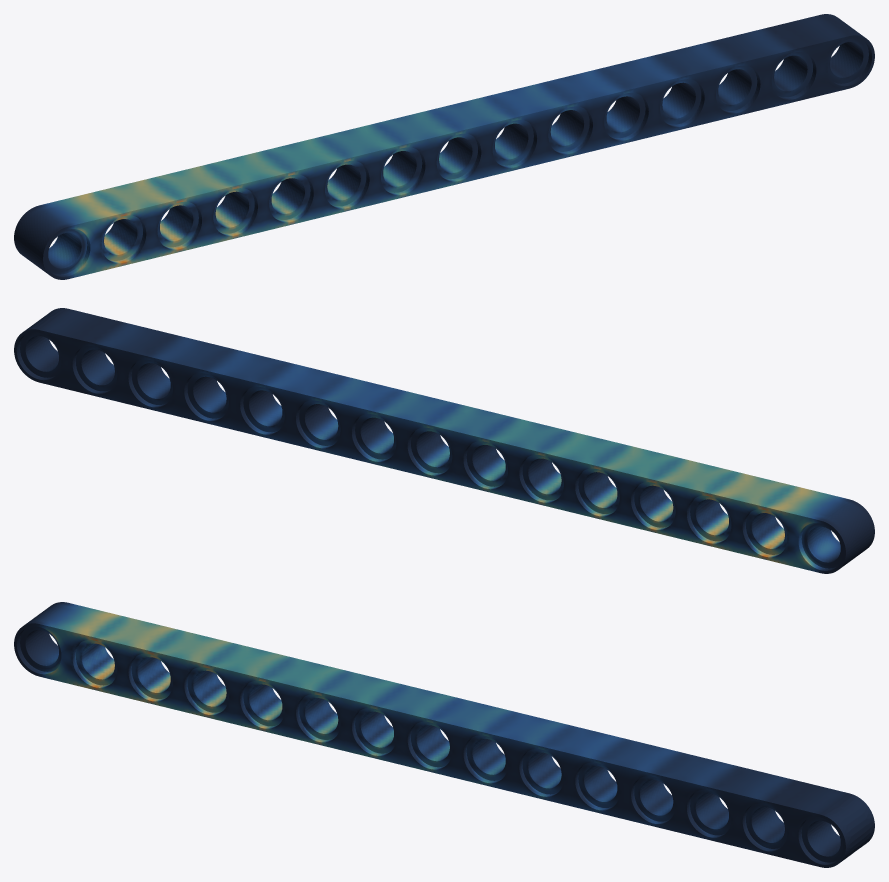
File: beam15.glb
The picture shows the model from 3 angles, top to bottom: view 1: azimuth 30°, elevation 25°; view 2: azimuth 150°, elevation 25°; view 3: azimuth 330°, elevation 25°; orthographic projection.
Visible parts, largest first — view 1: fem; view 2: fem; view 3: fem.
Boxes of the visible parts, x1,y1,x2,y2 form: fem: [14, 14, 874, 279]; fem: [14, 308, 874, 573]; fem: [14, 602, 874, 867].
Size of the model in its own units: 119 by 7.2 by 7.2.
